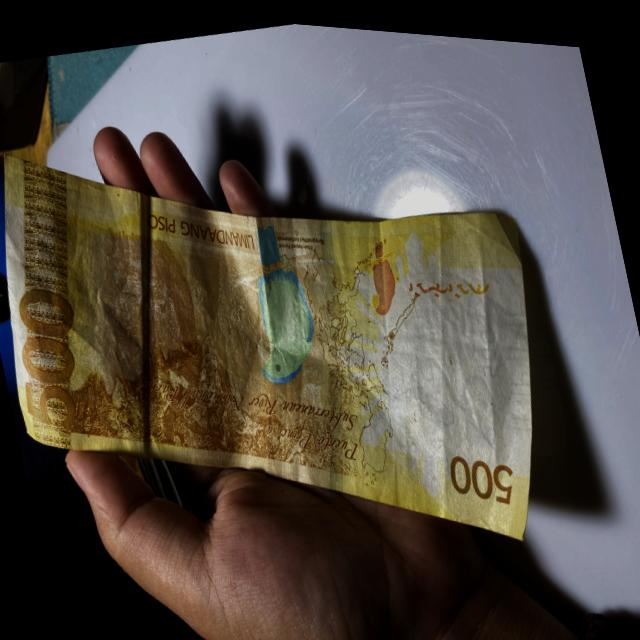500_big_parrot: (228, 209, 332, 392)
500_parrot_watermark: (352, 225, 407, 315)
value_watermark: (472, 310, 506, 370)
